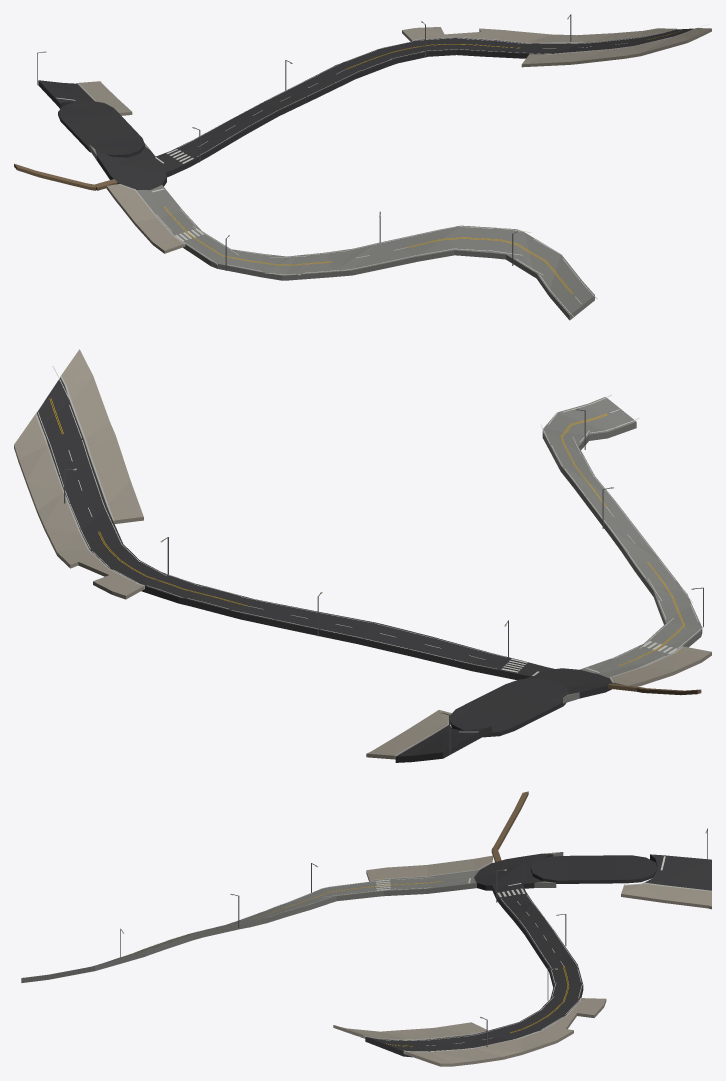
3 renders of one model, top to bottom at view 1: azimuth 30°, elevation 25°; view 2: azimuth 150°, elevation 25°; view 3: azimuth 270°, elevation 25°, orthographic. The views are drawn at different scales.
Size of the model in its own units: 149 by 27 by 147.
